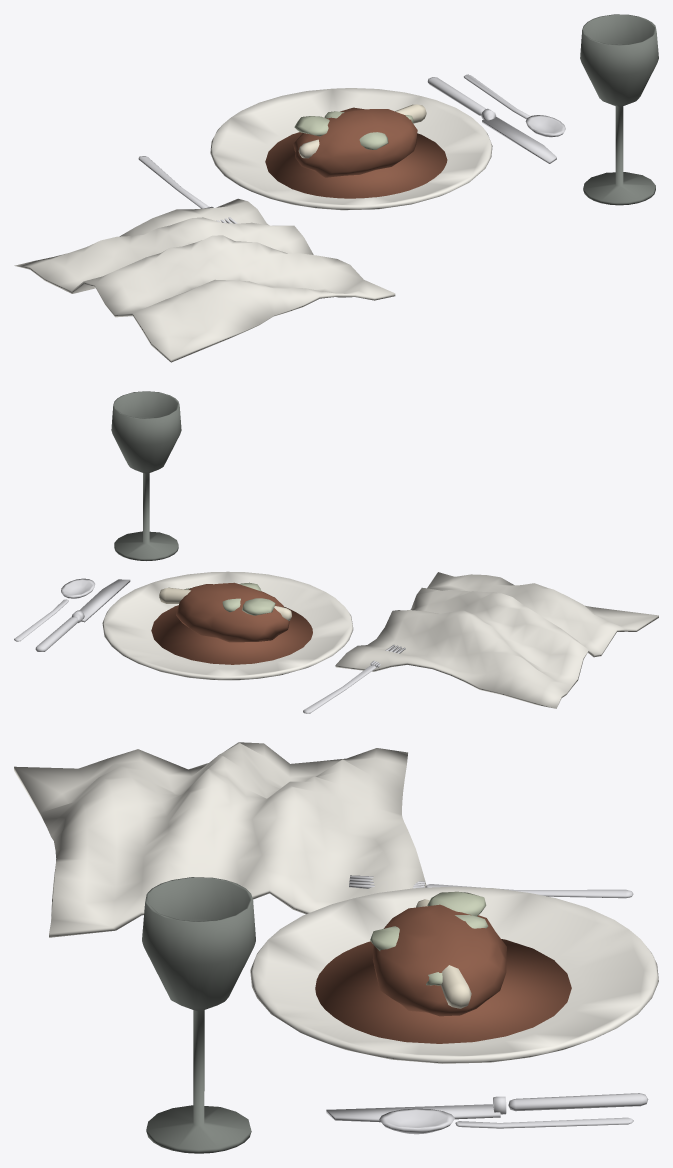
Rendered from setting_meat.glb.
3 renders of one model, top to bottom at view 1: azimuth 30°, elevation 25°; view 2: azimuth 150°, elevation 25°; view 3: azimuth 270°, elevation 25°, orthographic. The views are drawn at different scales.
Visible parts, largest first — view 1: setting_meat; view 2: setting_meat; view 3: setting_meat.
Boxes of the visible parts, x1,y1,x2,y2 form: setting_meat: [14, 14, 658, 362]; setting_meat: [14, 391, 658, 713]; setting_meat: [14, 742, 658, 1153].
Bounding box in the file's own units: 0.6311 × 0.171 × 0.429.
